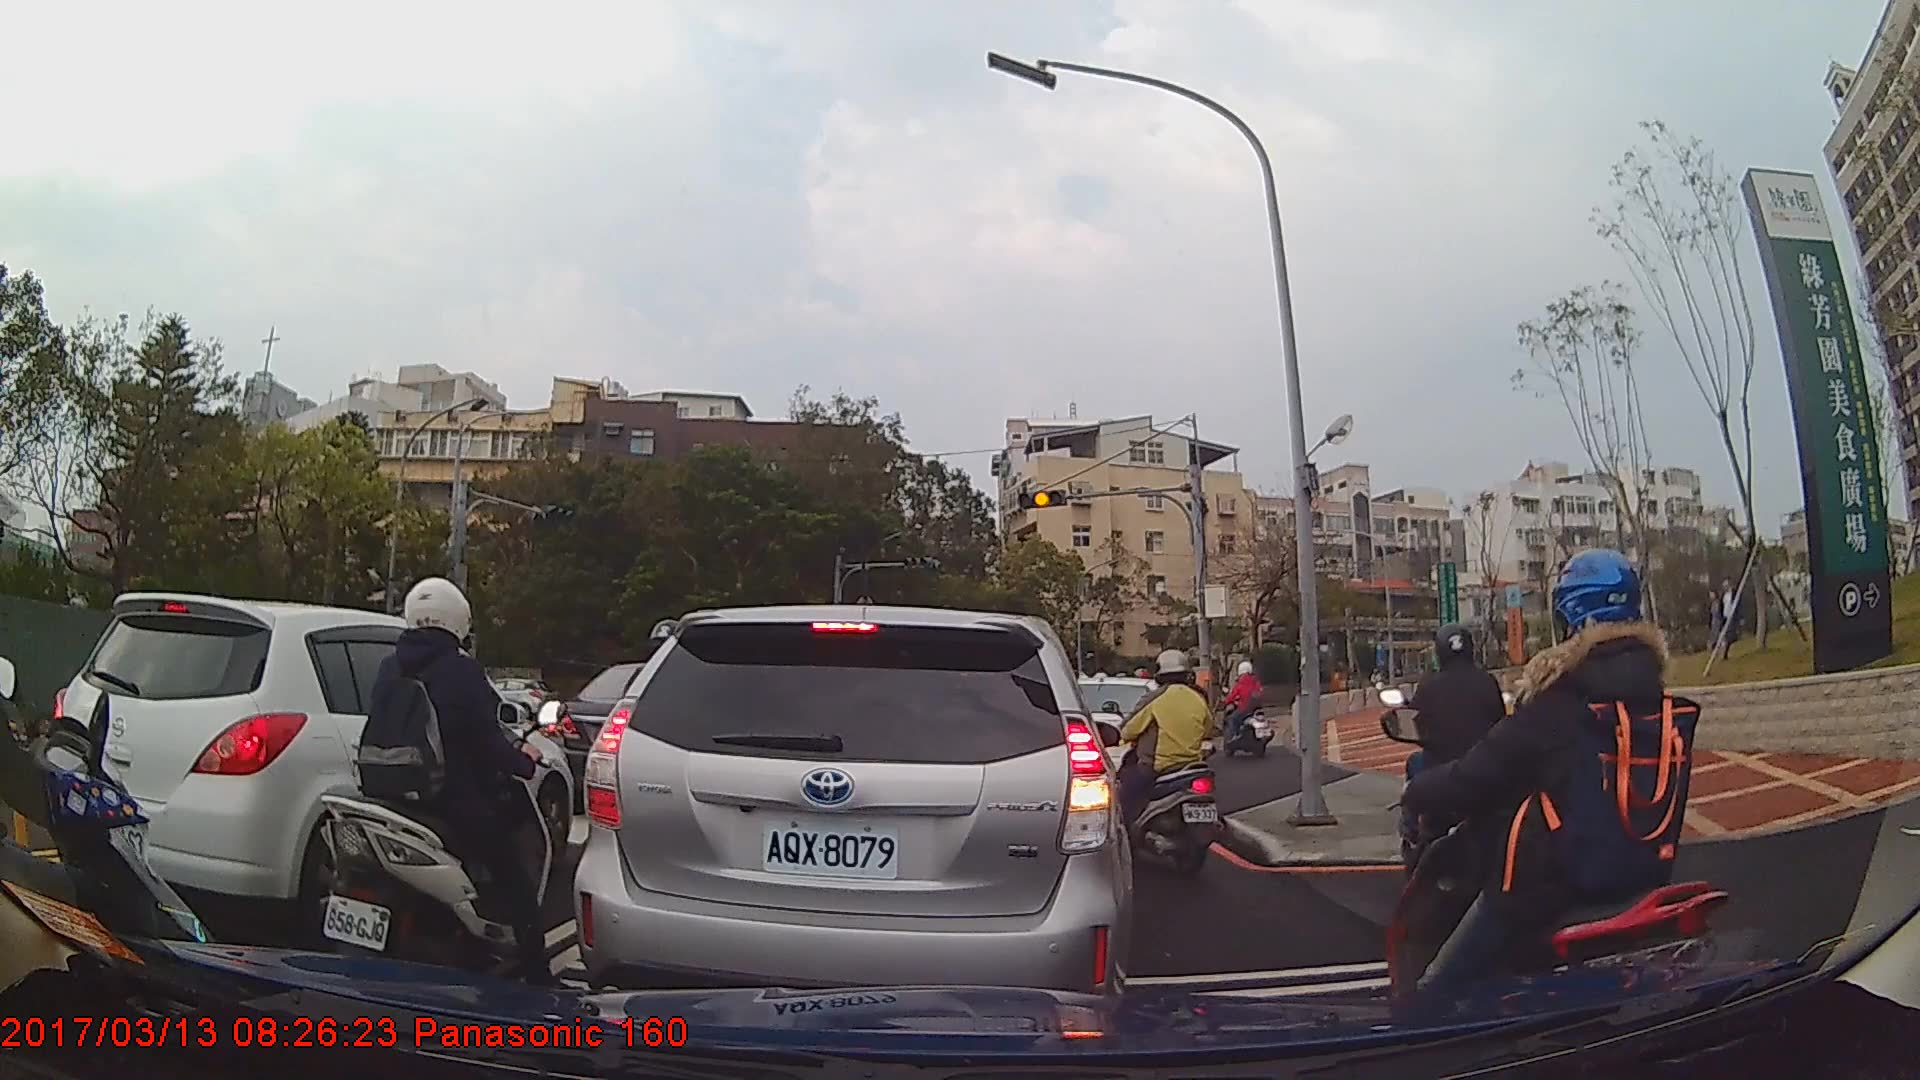pedestrian: (1711, 573, 1752, 655), (1699, 582, 1735, 657)
rider: (1380, 546, 1732, 1050), (1, 480, 214, 1080), (320, 575, 562, 1013), (1378, 621, 1541, 933), (1109, 646, 1223, 876), (1221, 659, 1274, 761)
vehicle: (572, 603, 1135, 1030), (47, 593, 573, 950), (485, 677, 557, 722)
